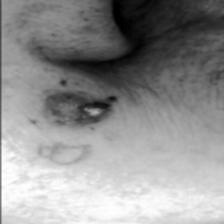Potentially Malignant Skin Tumors: (64, 97, 106, 127)
